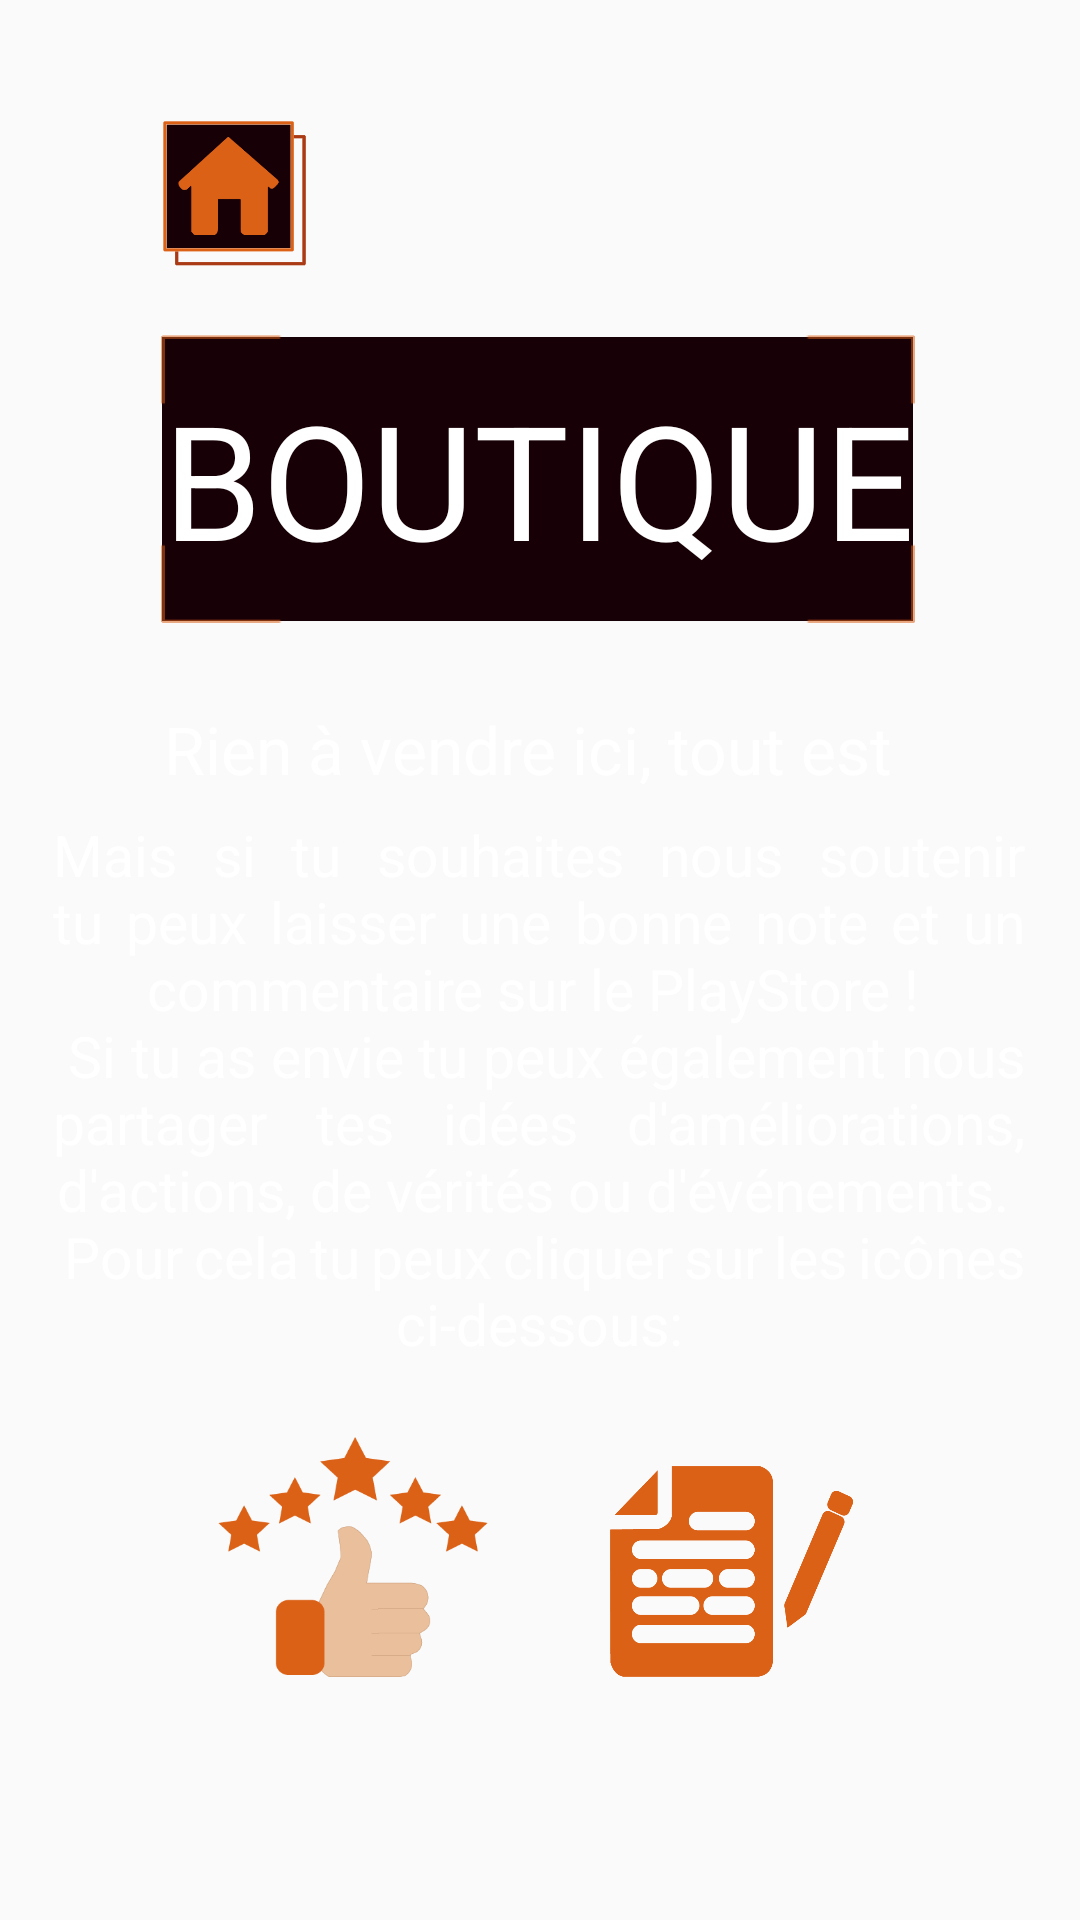

Icons on this 1080*1920 Android screen, each with its box as (x1, y1, x2, y2):
form: (610, 1466, 853, 1677)
homebutton: (163, 121, 306, 266)
rate: (218, 1437, 488, 1677)
